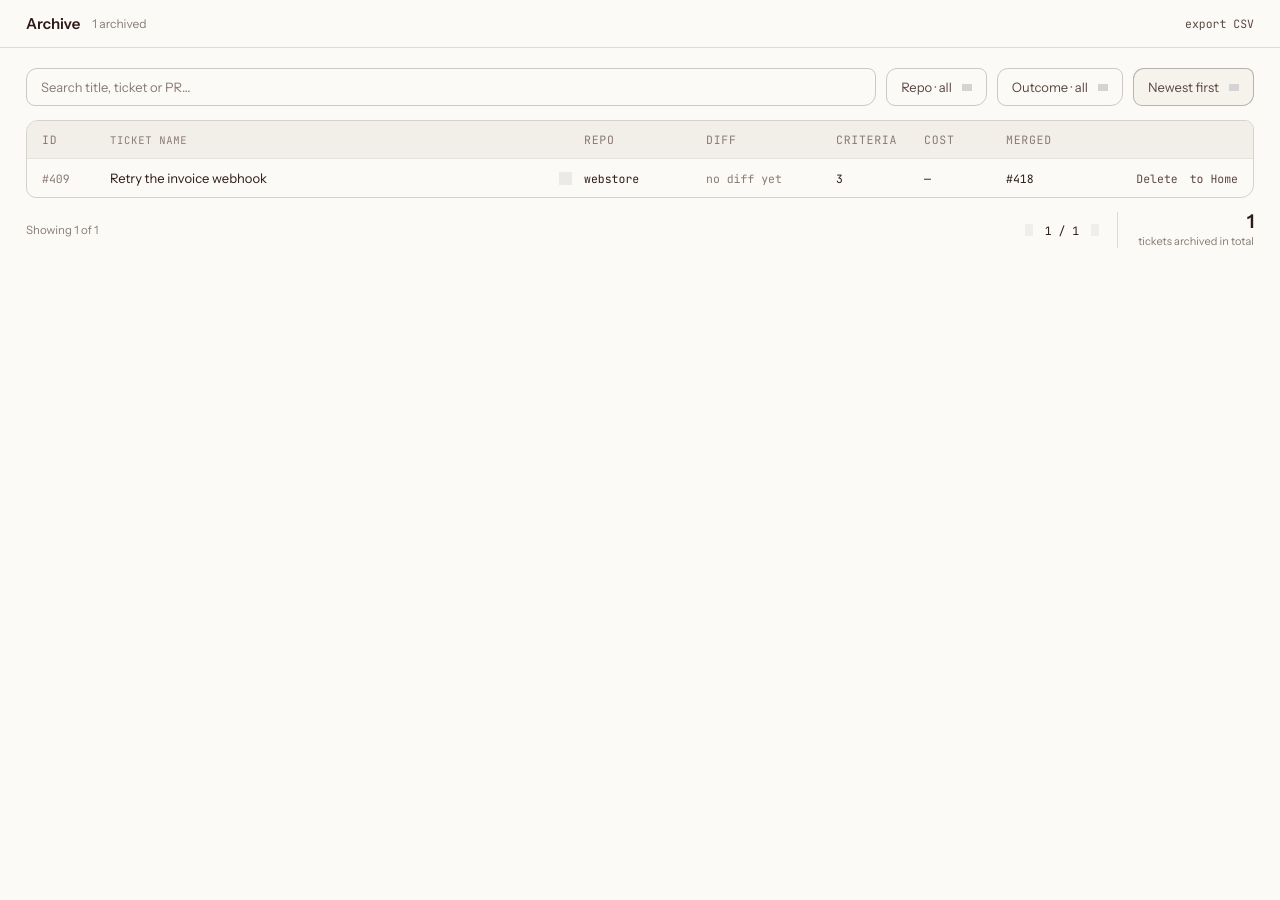
Scenario: deleting from the Archive › names the branch the ticket's attempts ran on where its delivery records none
What coordinates should you click on to do the following:
click the button with aria-label "Delete ticket: Retry the invoice webhook"
I would click on:
 (1157, 178)
Its box is top-left (1136, 170), bottom-right (1178, 186).
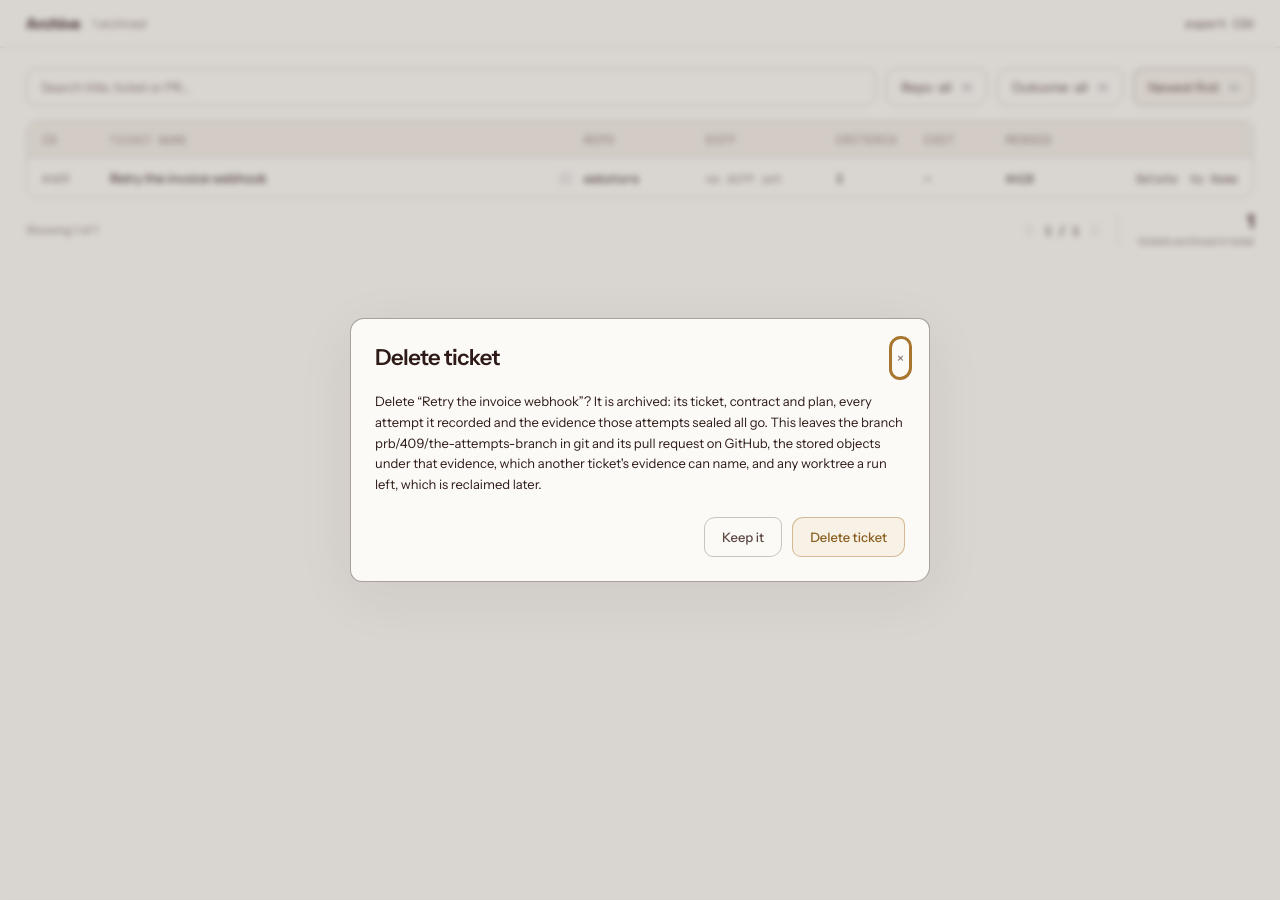
Expected: the text "This leaves the branch prb/409/the-attempts-branch in git and its pull request on GitHub" is shown, top-left (375, 393), bottom-right (903, 492)
